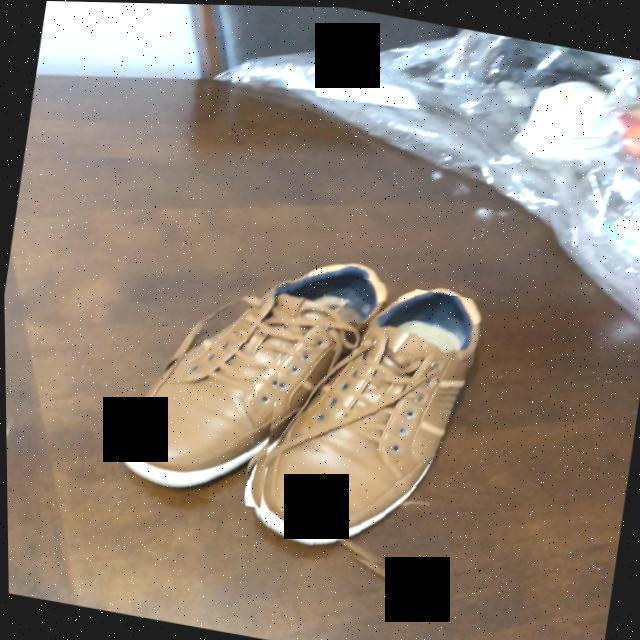shoe: (123, 265, 383, 493), (262, 289, 475, 554)
